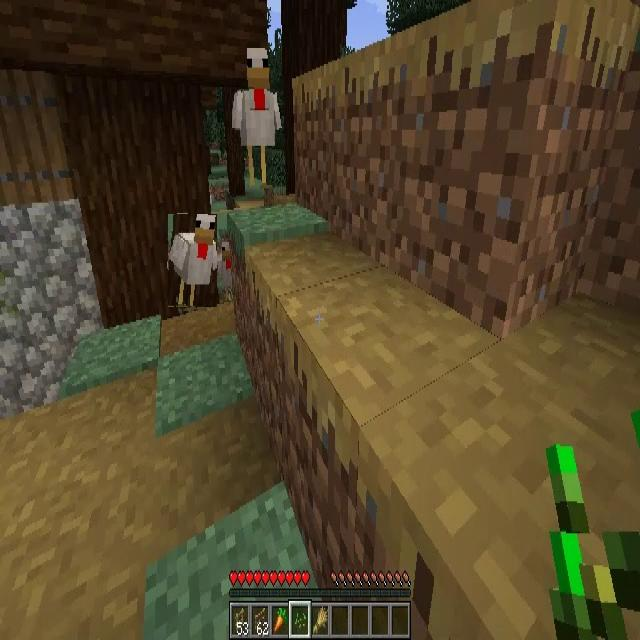duck: (232, 50, 284, 196), (168, 214, 217, 307), (217, 241, 232, 303)
